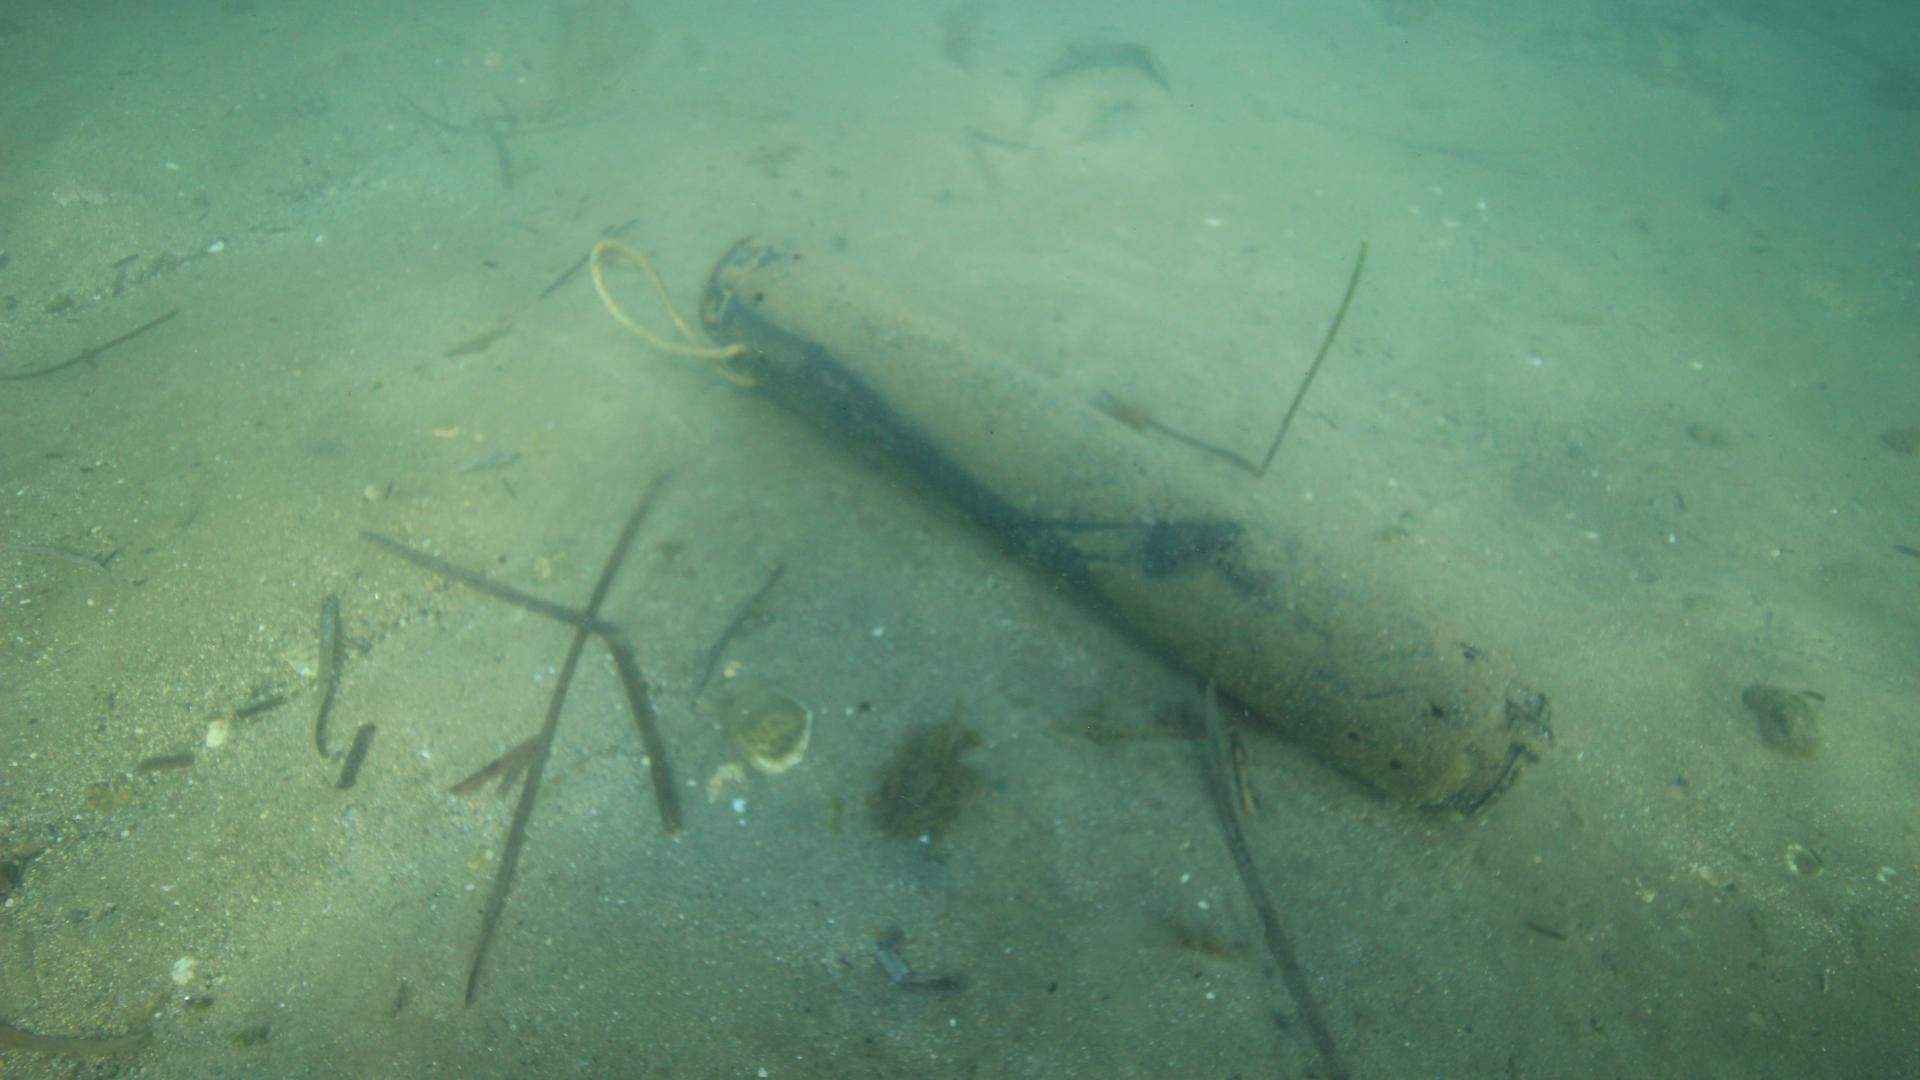eel fish trap: (694, 229, 1555, 823)
rope: (587, 236, 758, 392)
